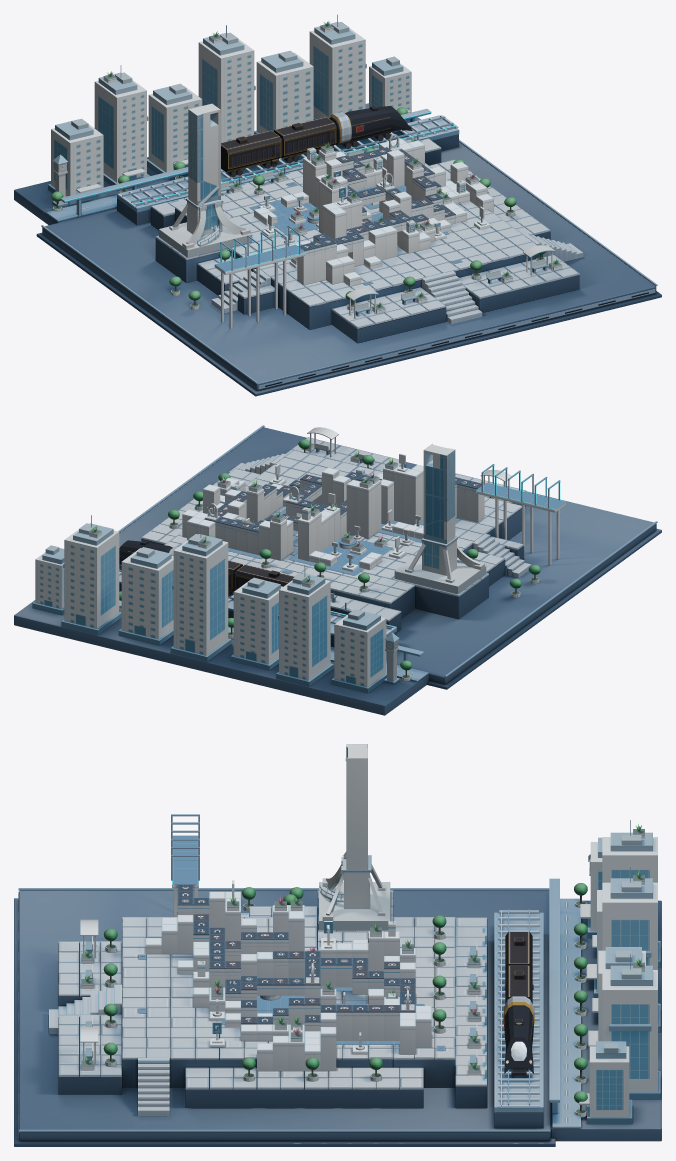
Rendered from station_remake.glb.
3 views of the same model, one above another, from view 1: azimuth 30°, elevation 25°; view 2: azimuth 150°, elevation 25°; view 3: azimuth 270°, elevation 25° (orthographic). The views are drawn at different scales.
Parts seen in each view (by area): view 1: station_static, street_asset_modules, station_ground, civic_tile_modules, tower_asset_modules, train_asset_modules, civic_furnishing_modules, civic_asset_modules, trees_asset_modules, Foundation front fascia, Sunken court.002, Foundation edge coping (+2 smaller); view 2: street_asset_modules, station_static, station_ground, civic_tile_modules, tower_asset_modules, civic_furnishing_modules, trees_asset_modules, train_asset_modules, civic_asset_modules, Sunken court.002, Foundation edge coping, Foundation edge coping.001; view 3: station_static, station_ground, civic_tile_modules, street_asset_modules, tower_asset_modules, trees_asset_modules, train_asset_modules, civic_furnishing_modules, civic_asset_modules, Foundation edge coping.001, Foundation edge coping.
Part boxes in pixels (left/top/right/bottom): station_static: left=14, top=103, right=661, bottom=396; street_asset_modules: left=48, top=14, right=411, bottom=206; station_ground: left=42, top=142, right=656, bottom=390; civic_tile_modules: left=254, top=138, right=493, bottom=286; tower_asset_modules: left=159, top=103, right=252, bottom=257; train_asset_modules: left=221, top=106, right=412, bottom=177; civic_furnishing_modules: left=103, top=21, right=562, bottom=313; civic_asset_modules: left=221, top=134, right=555, bottom=318; trees_asset_modules: left=51, top=107, right=545, bottom=310; Foundation front fascia: left=258, top=289, right=655, bottom=389; Sunken court.002: left=250, top=200, right=318, bottom=234; Foundation edge coping: left=41, top=225, right=257, bottom=383; street_asset_modules: left=32, top=515, right=399, bottom=693; station_static: left=14, top=437, right=661, bottom=715; station_ground: left=119, top=427, right=656, bottom=684; civic_tile_modules: left=182, top=464, right=484, bottom=571; tower_asset_modules: left=394, top=443, right=486, bottom=593; civic_furnishing_modules: left=89, top=438, right=483, bottom=587; trees_asset_modules: left=119, top=439, right=540, bottom=681; train_asset_modules: left=119, top=540, right=294, bottom=596; civic_asset_modules: left=205, top=427, right=511, bottom=609; Sunken court.002: left=289, top=536, right=392, bottom=575; Foundation edge coping: left=444, top=521, right=657, bottom=677; Foundation edge coping.001: left=118, top=425, right=264, bottom=532; station_static: left=14, top=878, right=661, bottom=1146; station_ground: left=18, top=890, right=550, bottom=1140; civic_tile_modules: left=145, top=884, right=431, bottom=1070; street_asset_modules: left=579, top=820, right=660, bottom=1124; tower_asset_modules: left=319, top=744, right=390, bottom=930; trees_asset_modules: left=103, top=883, right=587, bottom=1117; train_asset_modules: left=503, top=931, right=534, bottom=1075; civic_furnishing_modules: left=81, top=824, right=644, bottom=1075; civic_asset_modules: left=80, top=919, right=486, bottom=1078; Foundation edge coping.001: left=18, top=1129, right=550, bottom=1132; Foundation edge coping: left=18, top=888, right=549, bottom=890.
Size of the model in its own units: 36.6 by 14.12 by 40.8.
Materials: 19 (15 with a texture image).
